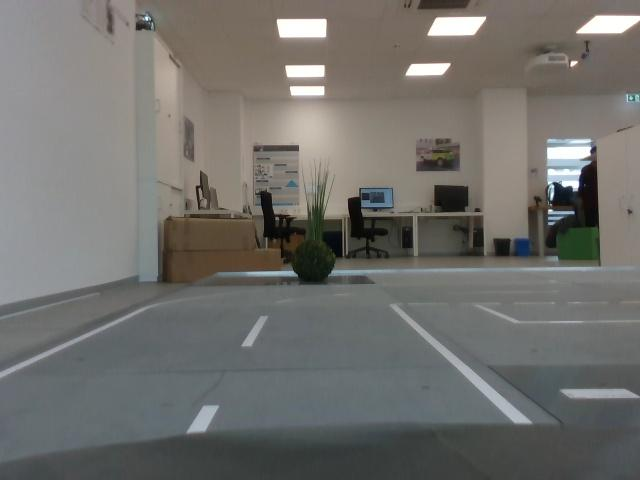potted plant: (297, 162, 337, 239), (294, 242, 334, 283)
